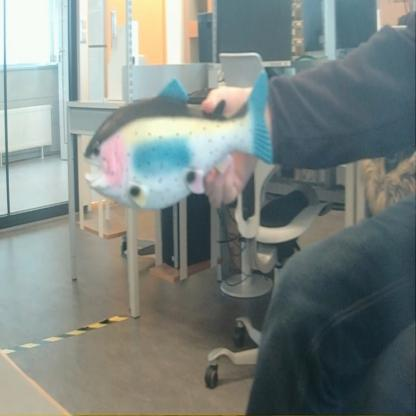rubberfish: (83, 66, 277, 214)
